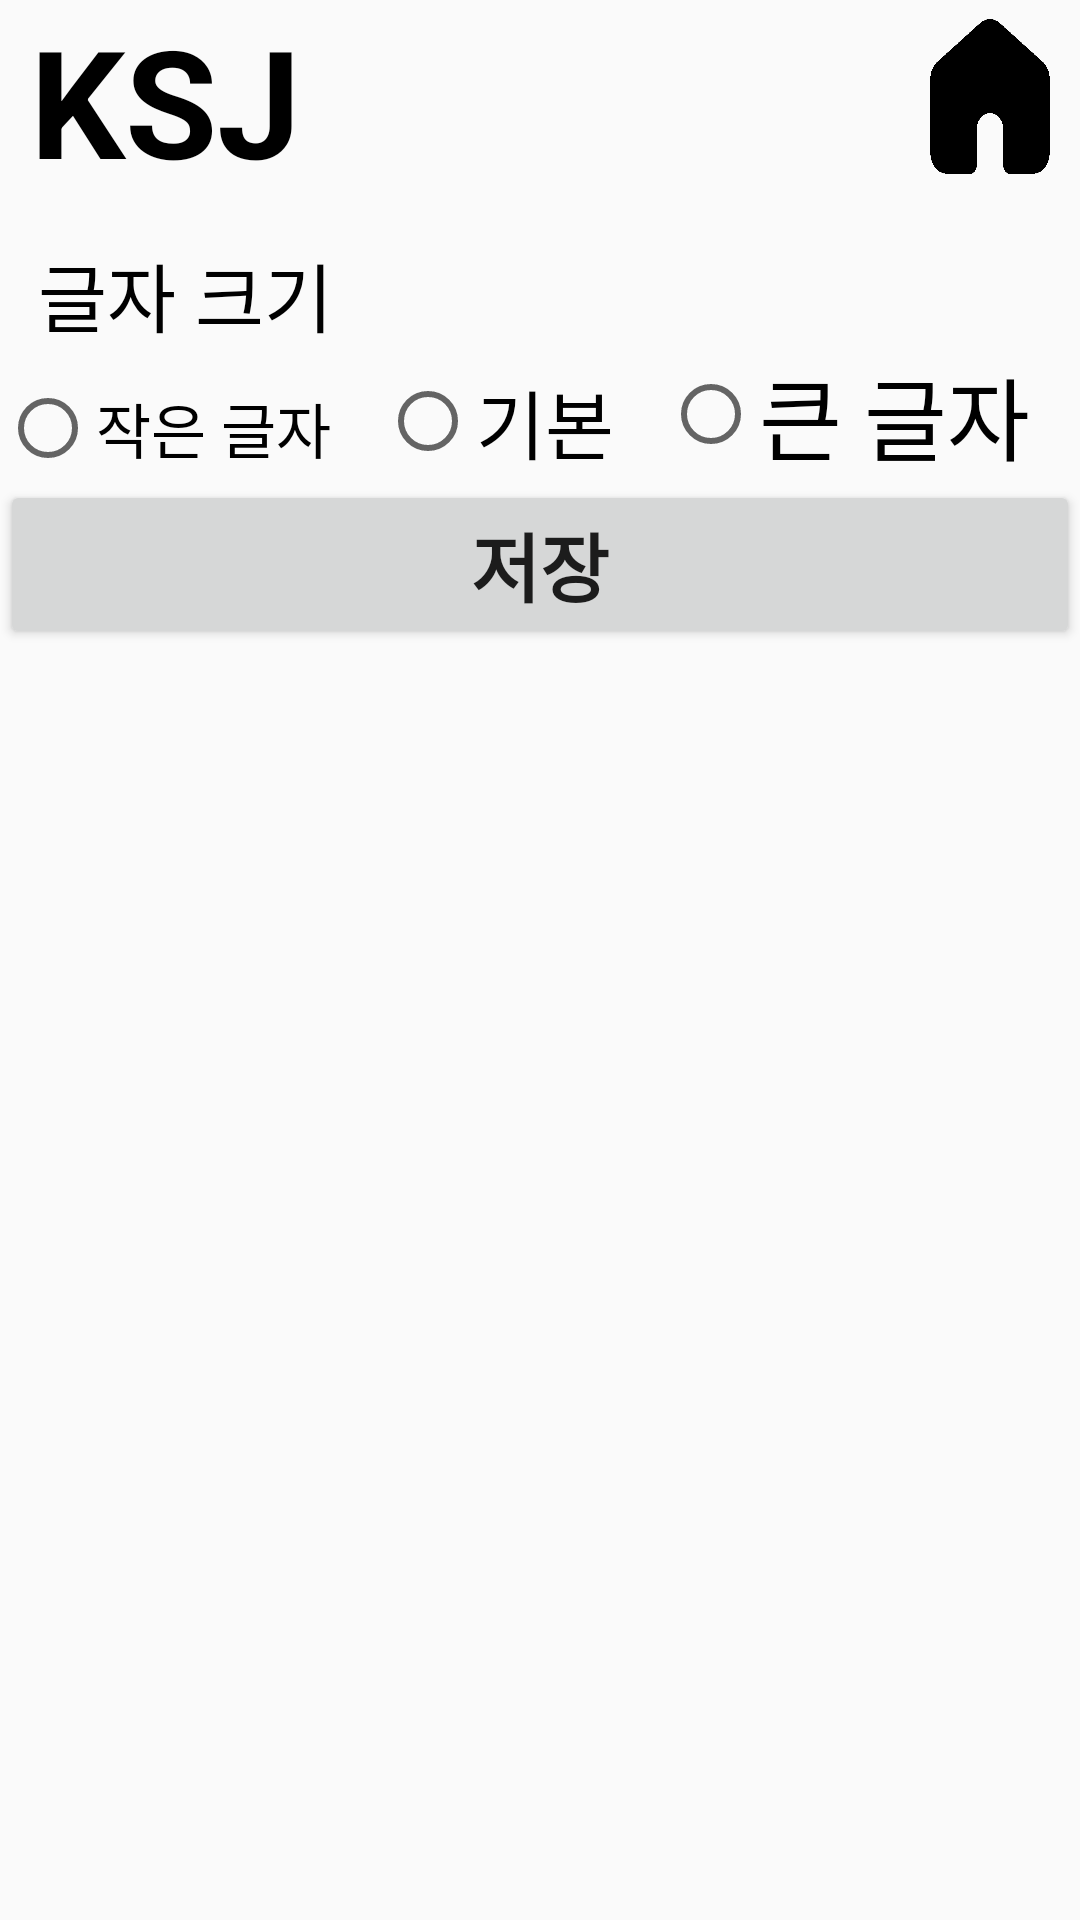

Icon click points for this 1080×1920 phone screenshot, format (x=x, y=y):
btnhome: (x=990, y=96)
